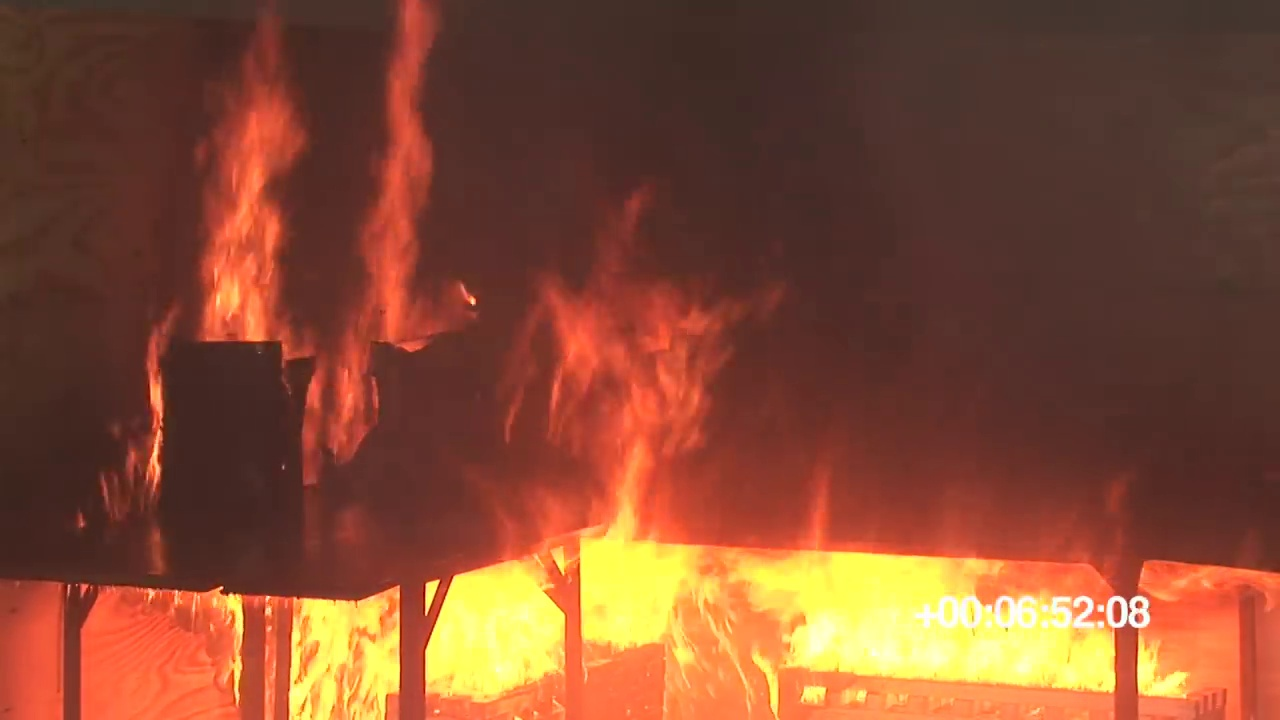fire: (288, 544, 728, 720), (754, 559, 1186, 693), (543, 275, 712, 542), (203, 27, 285, 338), (376, 8, 424, 330)
